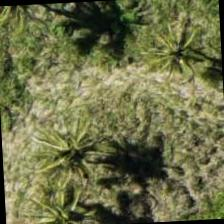Kelapa_Sawit: (20, 106, 116, 201), (140, 7, 224, 100), (21, 170, 115, 223)
